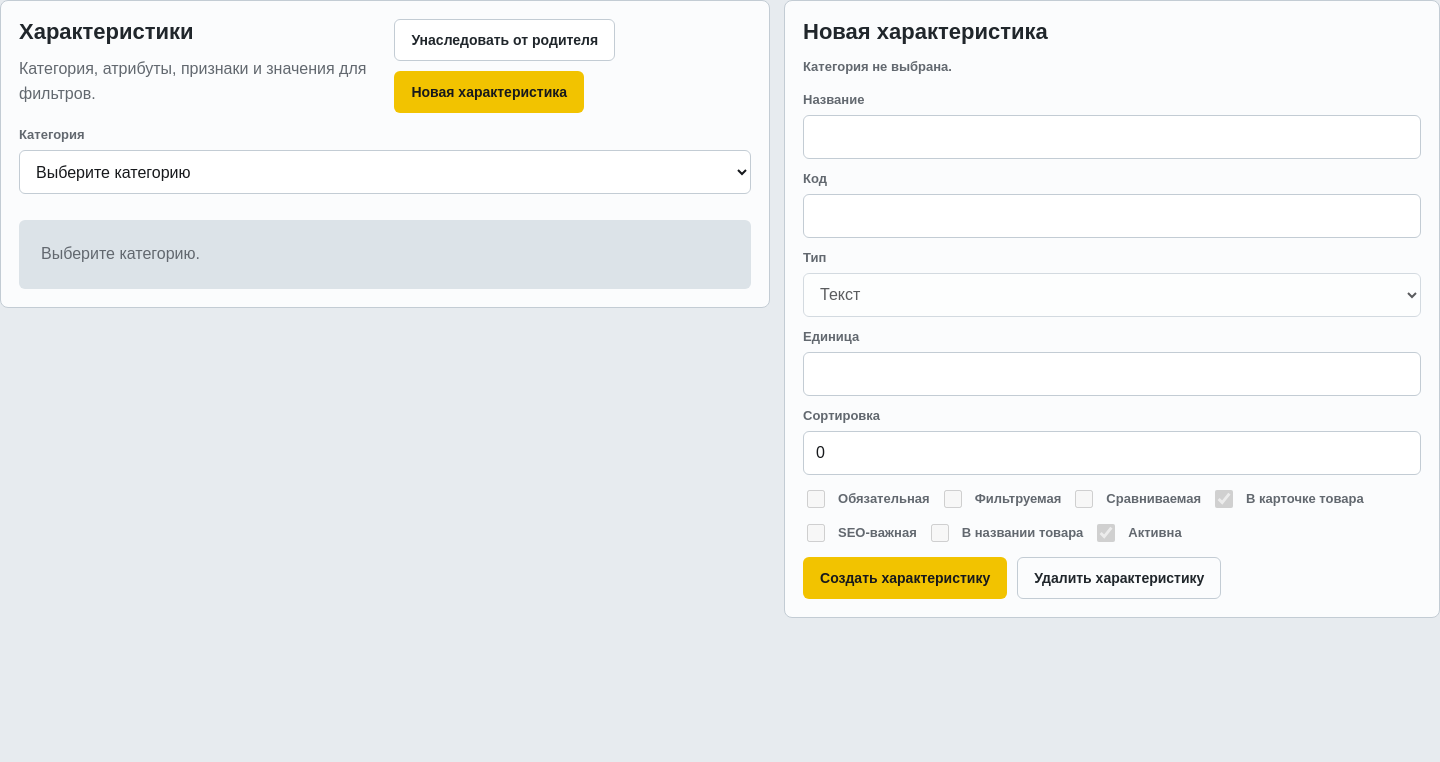
Test: AdminAttributeManager › shows option editor for select attributes
The image size is (1440, 762).
Select "Кабели" in the dropdown labelled "Категория" at [385, 172], box [19, 150, 751, 194]
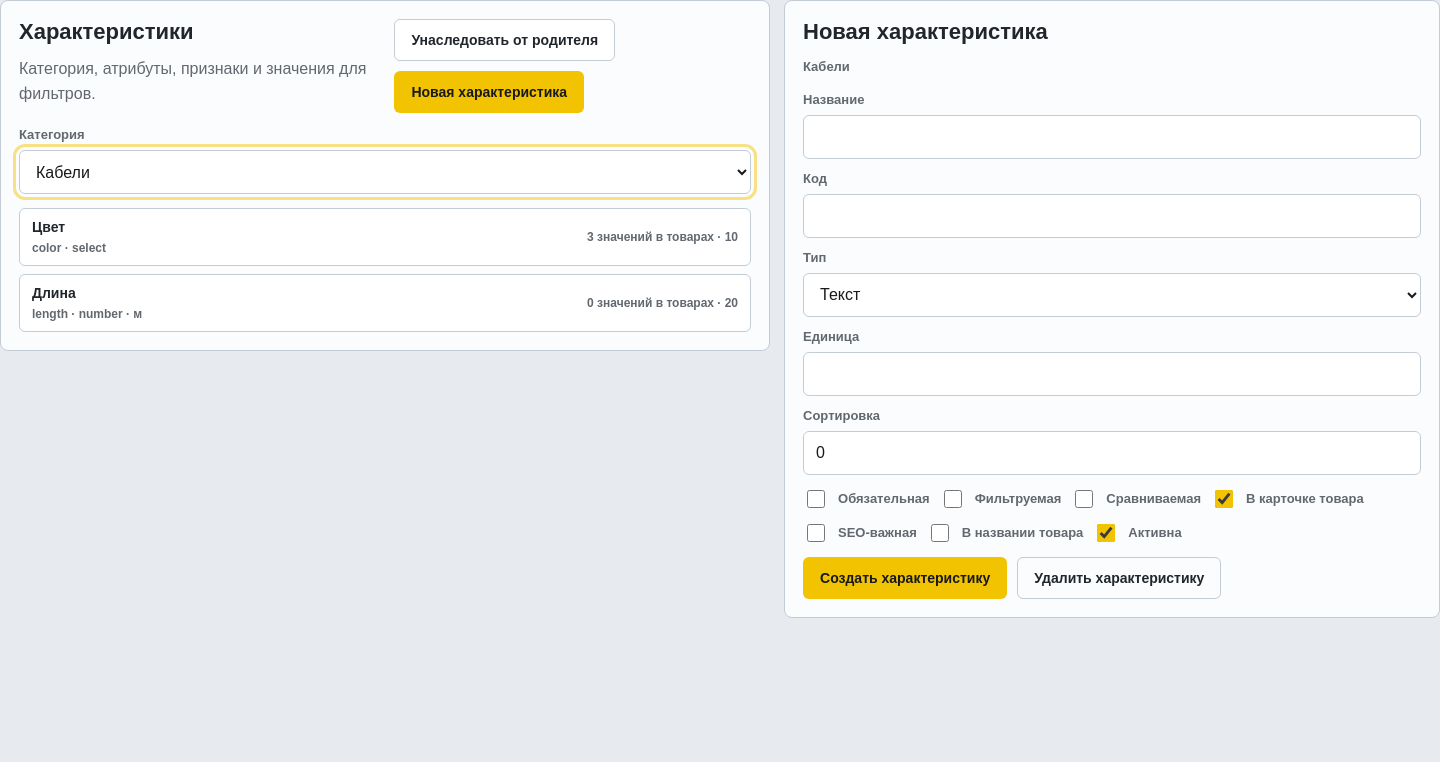
Click the button "Цвет color · select 3 значений в товарах · 10" at [49, 227], box [19, 208, 751, 266]
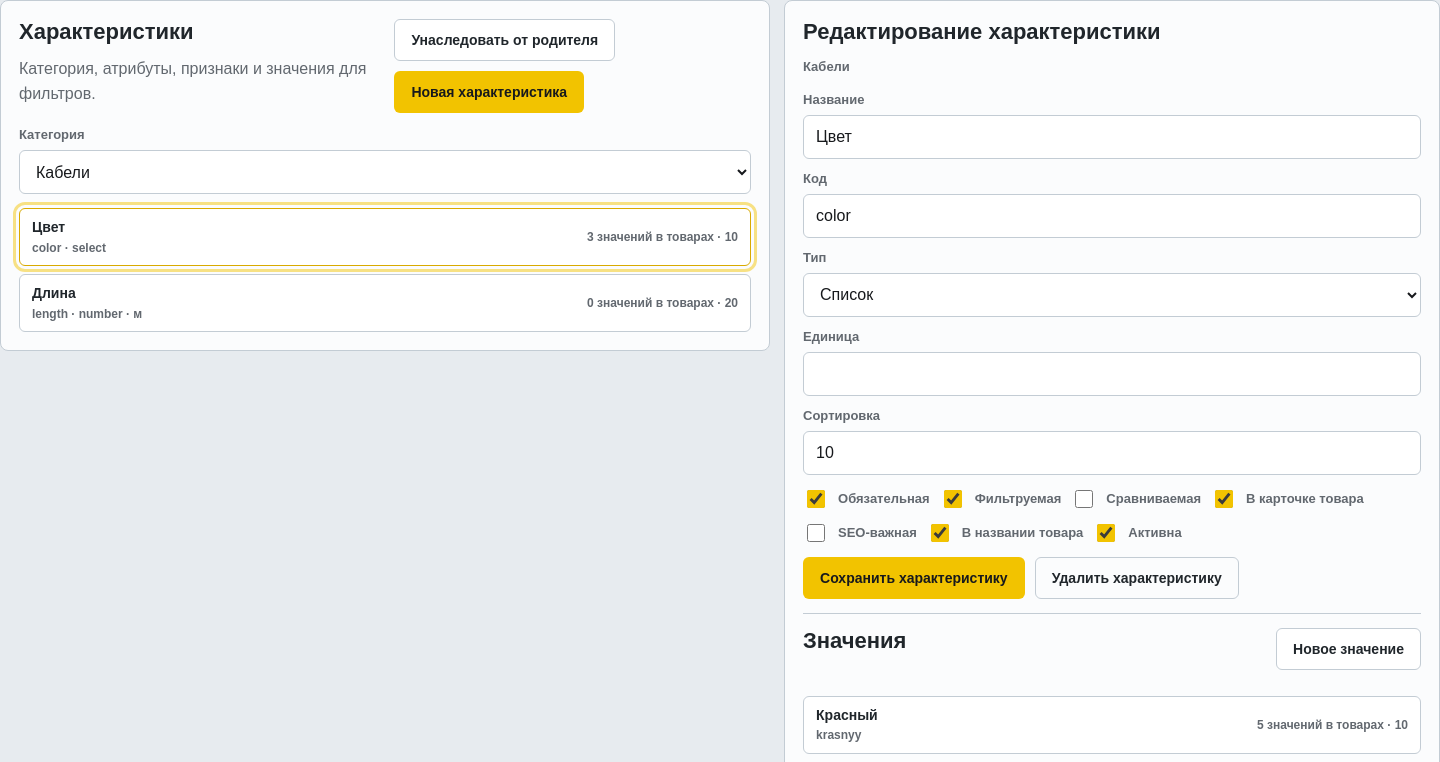
Result: the heading "Значения" is shown at [803, 628, 906, 654]
Result: the button "Красный krasnyy 5 значений в товарах · 10" is shown at [803, 696, 1421, 754]
Click the button "Длина length · number · м 0 значений в товарах · 20" at [54, 293], box [19, 274, 751, 332]
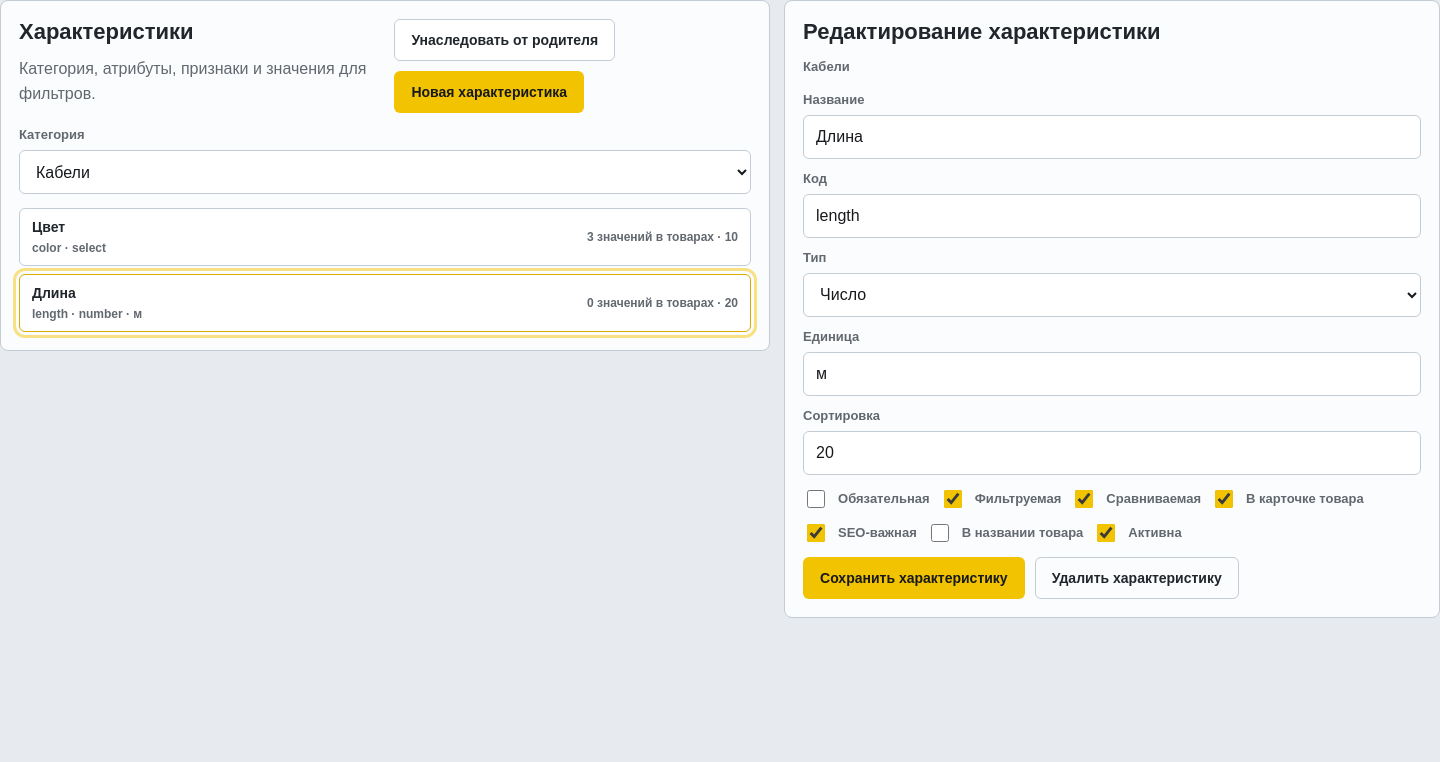
Result: the field showing "Длина" is shown at [803, 114, 1421, 158]
